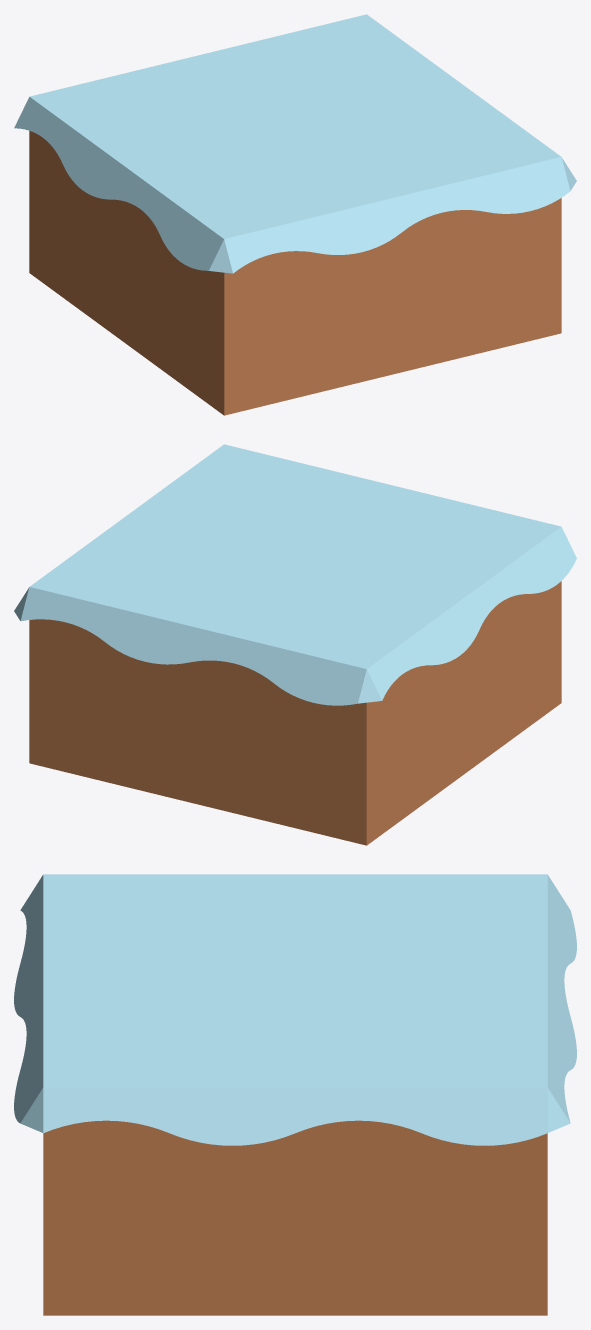
File: blockSnowLarge.fbx
3 renders of one model, top to bottom at view 1: azimuth 30°, elevation 25°; view 2: azimuth 150°, elevation 25°; view 3: azimuth 270°, elevation 25°, orthographic. The views are drawn at different scales.
Parts seen in each view (by area): view 1: blockSnowLarge; view 2: blockSnowLarge; view 3: blockSnowLarge.
Part boxes in pixels (<box>): blockSnowLarge: <box>14,14,576,415</box>; blockSnowLarge: <box>14,444,576,845</box>; blockSnowLarge: <box>14,874,576,1315</box>.
Bounding box in the file's own units: 22.33 × 10 × 22.33.
